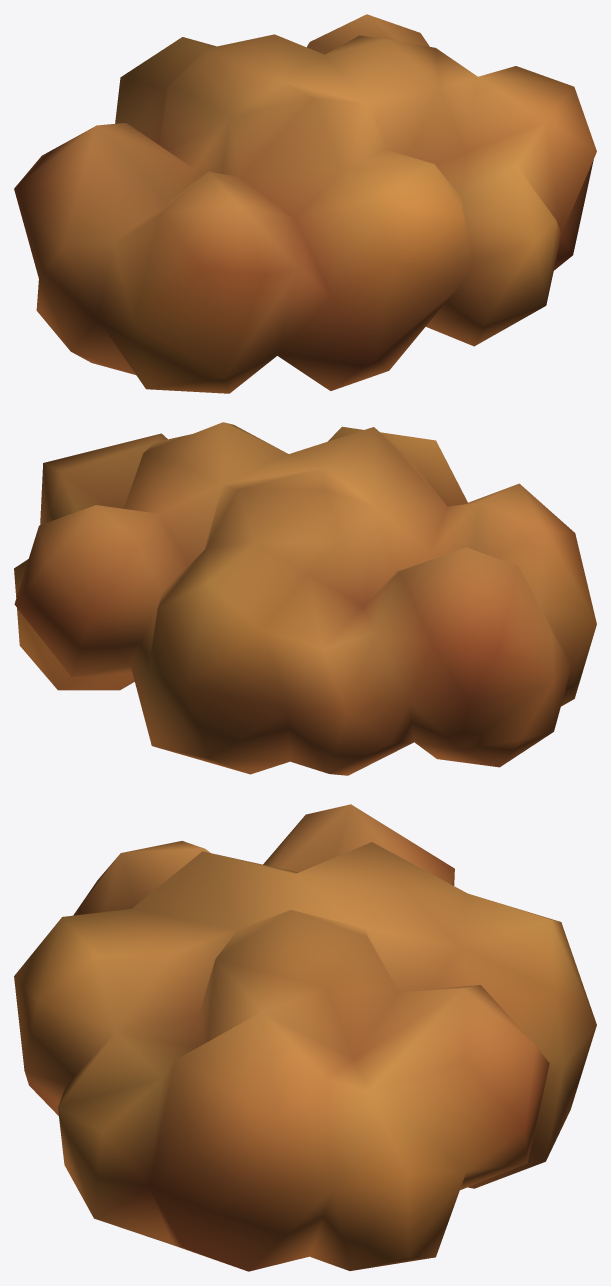
Rendered from bush-b-autumn.lod1.glb.
3 views of the same model, one above another, from view 1: azimuth 30°, elevation 25°; view 2: azimuth 150°, elevation 25°; view 3: azimuth 270°, elevation 25° (orthographic). The views are drawn at different scales.
Parts seen in each view (by area): view 1: bush-b-autumn.lod1; view 2: bush-b-autumn.lod1; view 3: bush-b-autumn.lod1.
Boxes of the visible parts, x1,y1,x2,y2 form: bush-b-autumn.lod1: (14, 14, 596, 393); bush-b-autumn.lod1: (14, 422, 596, 775); bush-b-autumn.lod1: (14, 804, 596, 1271).
Size of the model in its own units: 1.34 by 0.6567 by 1.1.
